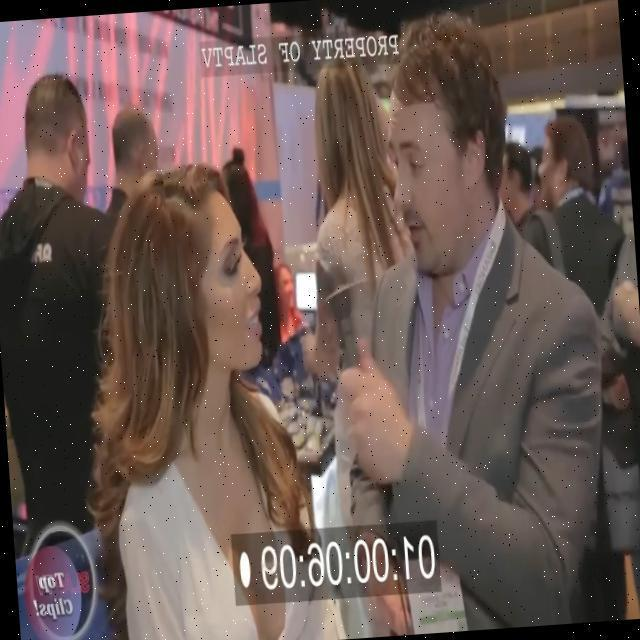person: (314, 16, 592, 638), (89, 164, 309, 640), (0, 68, 128, 525), (300, 54, 405, 312), (540, 111, 622, 291), (99, 96, 168, 230)
